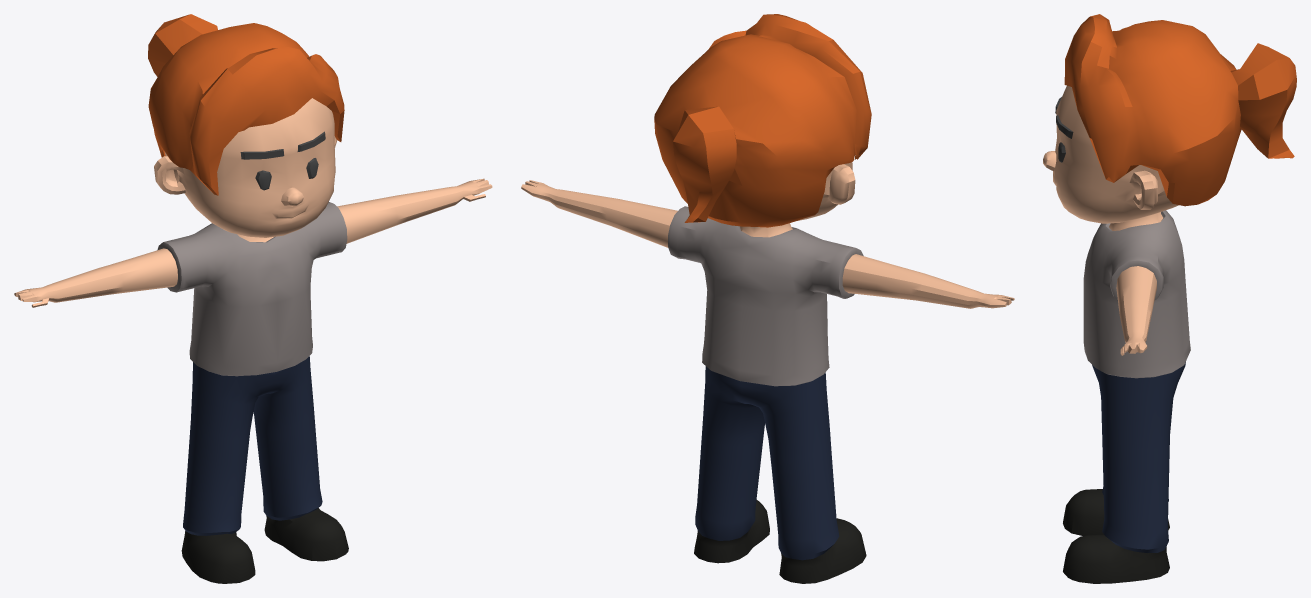
Rendered from ruby_the_destroyer.fbx.
The picture shows the model from 3 angles, left to right: view 1: azimuth 30°, elevation 25°; view 2: azimuth 150°, elevation 25°; view 3: azimuth 270°, elevation 25°; orthographic projection. The views are drawn at different scales.
Visible parts, largest first — view 1: body.004; view 2: body.004; view 3: body.004.
Boxes of the visible parts, x1,y1,x2,y2 form: body.004: (14, 14, 492, 583); body.004: (521, 14, 1014, 583); body.004: (1043, 14, 1296, 583).
Size of the model in its own units: 113 by 117 by 51.49.
